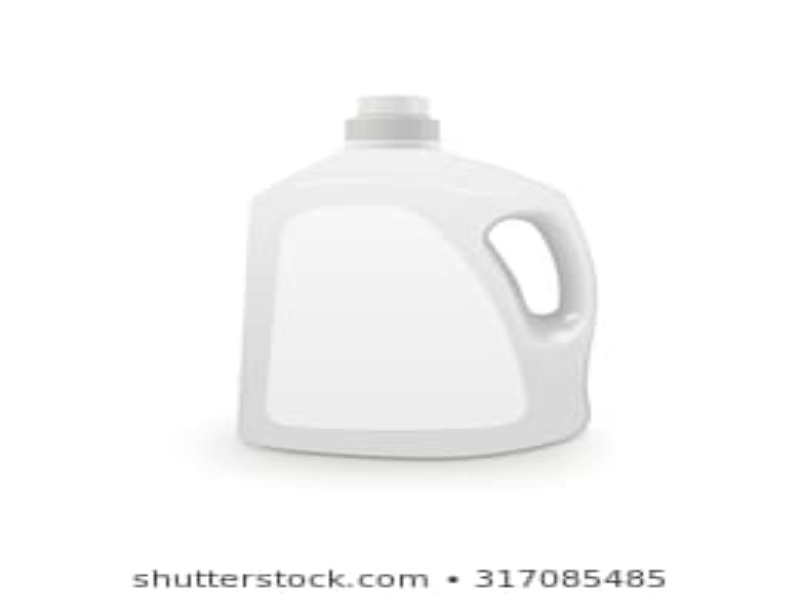detergent-bottle: (241, 94, 592, 459)
